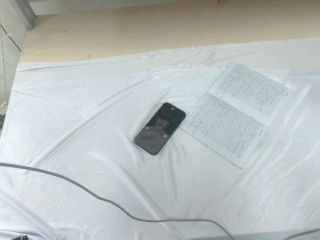phone: (134, 102, 186, 156)
